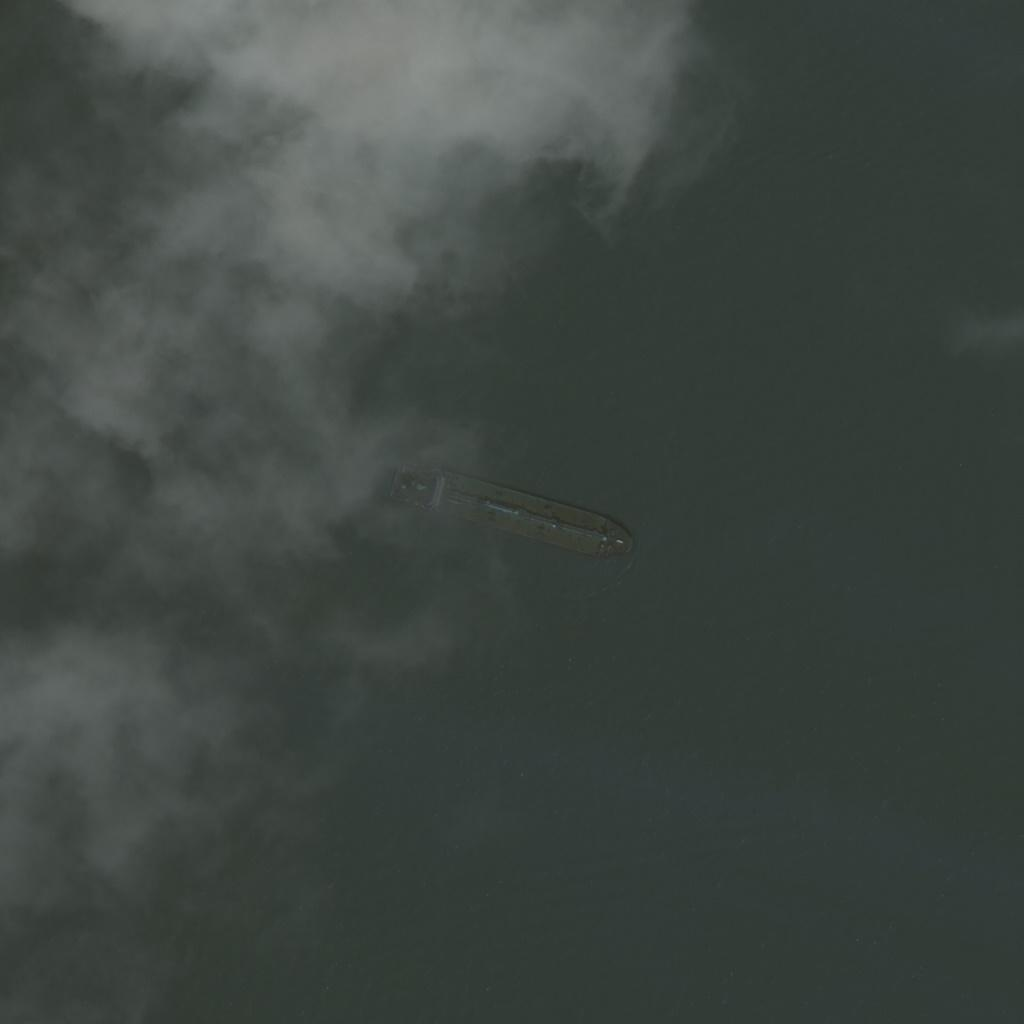ship: (491, 456, 543, 559)
